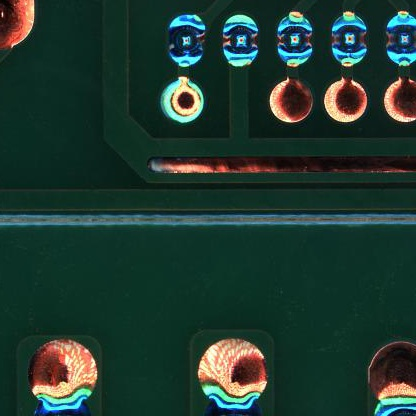spot: (276, 11, 315, 68), (330, 11, 369, 68), (166, 15, 208, 67), (222, 12, 259, 68), (387, 8, 415, 67)
